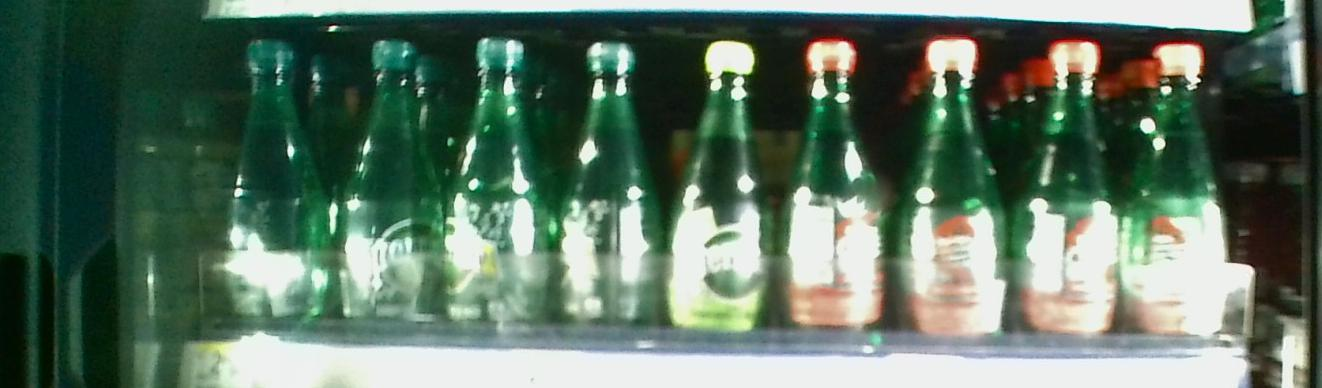bottle: (907, 28, 1007, 348), (1022, 33, 1122, 345), (786, 40, 890, 333), (670, 36, 766, 352), (560, 24, 662, 321), (1131, 43, 1232, 336), (232, 29, 330, 329), (344, 31, 439, 332), (451, 39, 543, 345)
